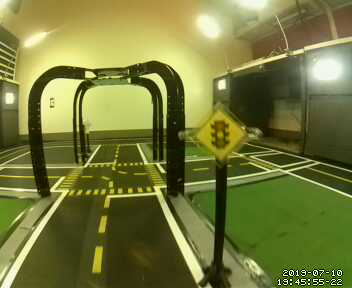Traffic light sign: (197, 111, 245, 163)
